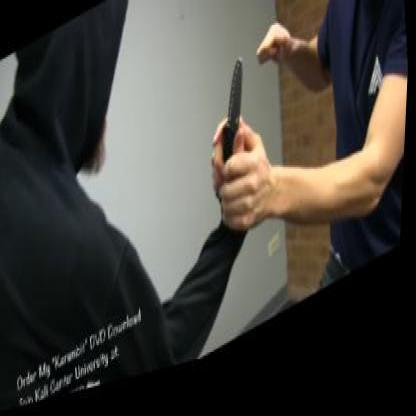knife: (200, 57, 260, 219)
